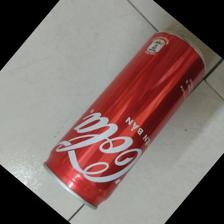Coca: (42, 30, 207, 214)
